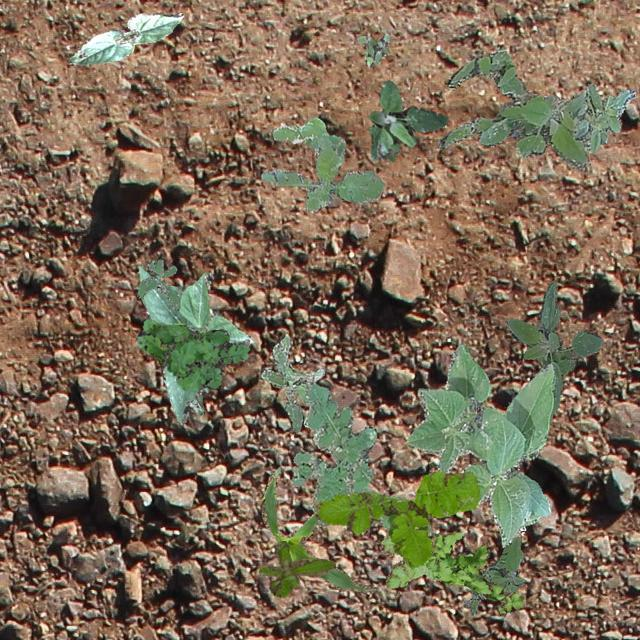crop: (406, 344, 554, 546), (136, 266, 252, 424), (260, 466, 376, 592), (68, 12, 182, 64), (188, 390, 204, 414)
weed: (290, 380, 430, 534), (436, 45, 590, 168), (312, 470, 478, 566), (504, 279, 602, 412), (260, 116, 384, 212), (380, 532, 524, 614), (136, 318, 248, 390), (366, 80, 446, 160), (540, 82, 634, 150), (260, 336, 324, 432), (462, 534, 524, 614), (258, 540, 334, 596), (136, 258, 178, 308), (356, 32, 388, 66)
